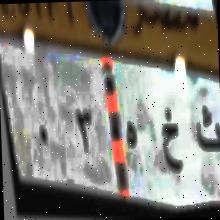0: (38, 117, 50, 151)
3: (73, 100, 94, 164)
haa: (122, 109, 140, 162)
khaa: (158, 104, 185, 182)
thaa: (195, 101, 220, 160)
